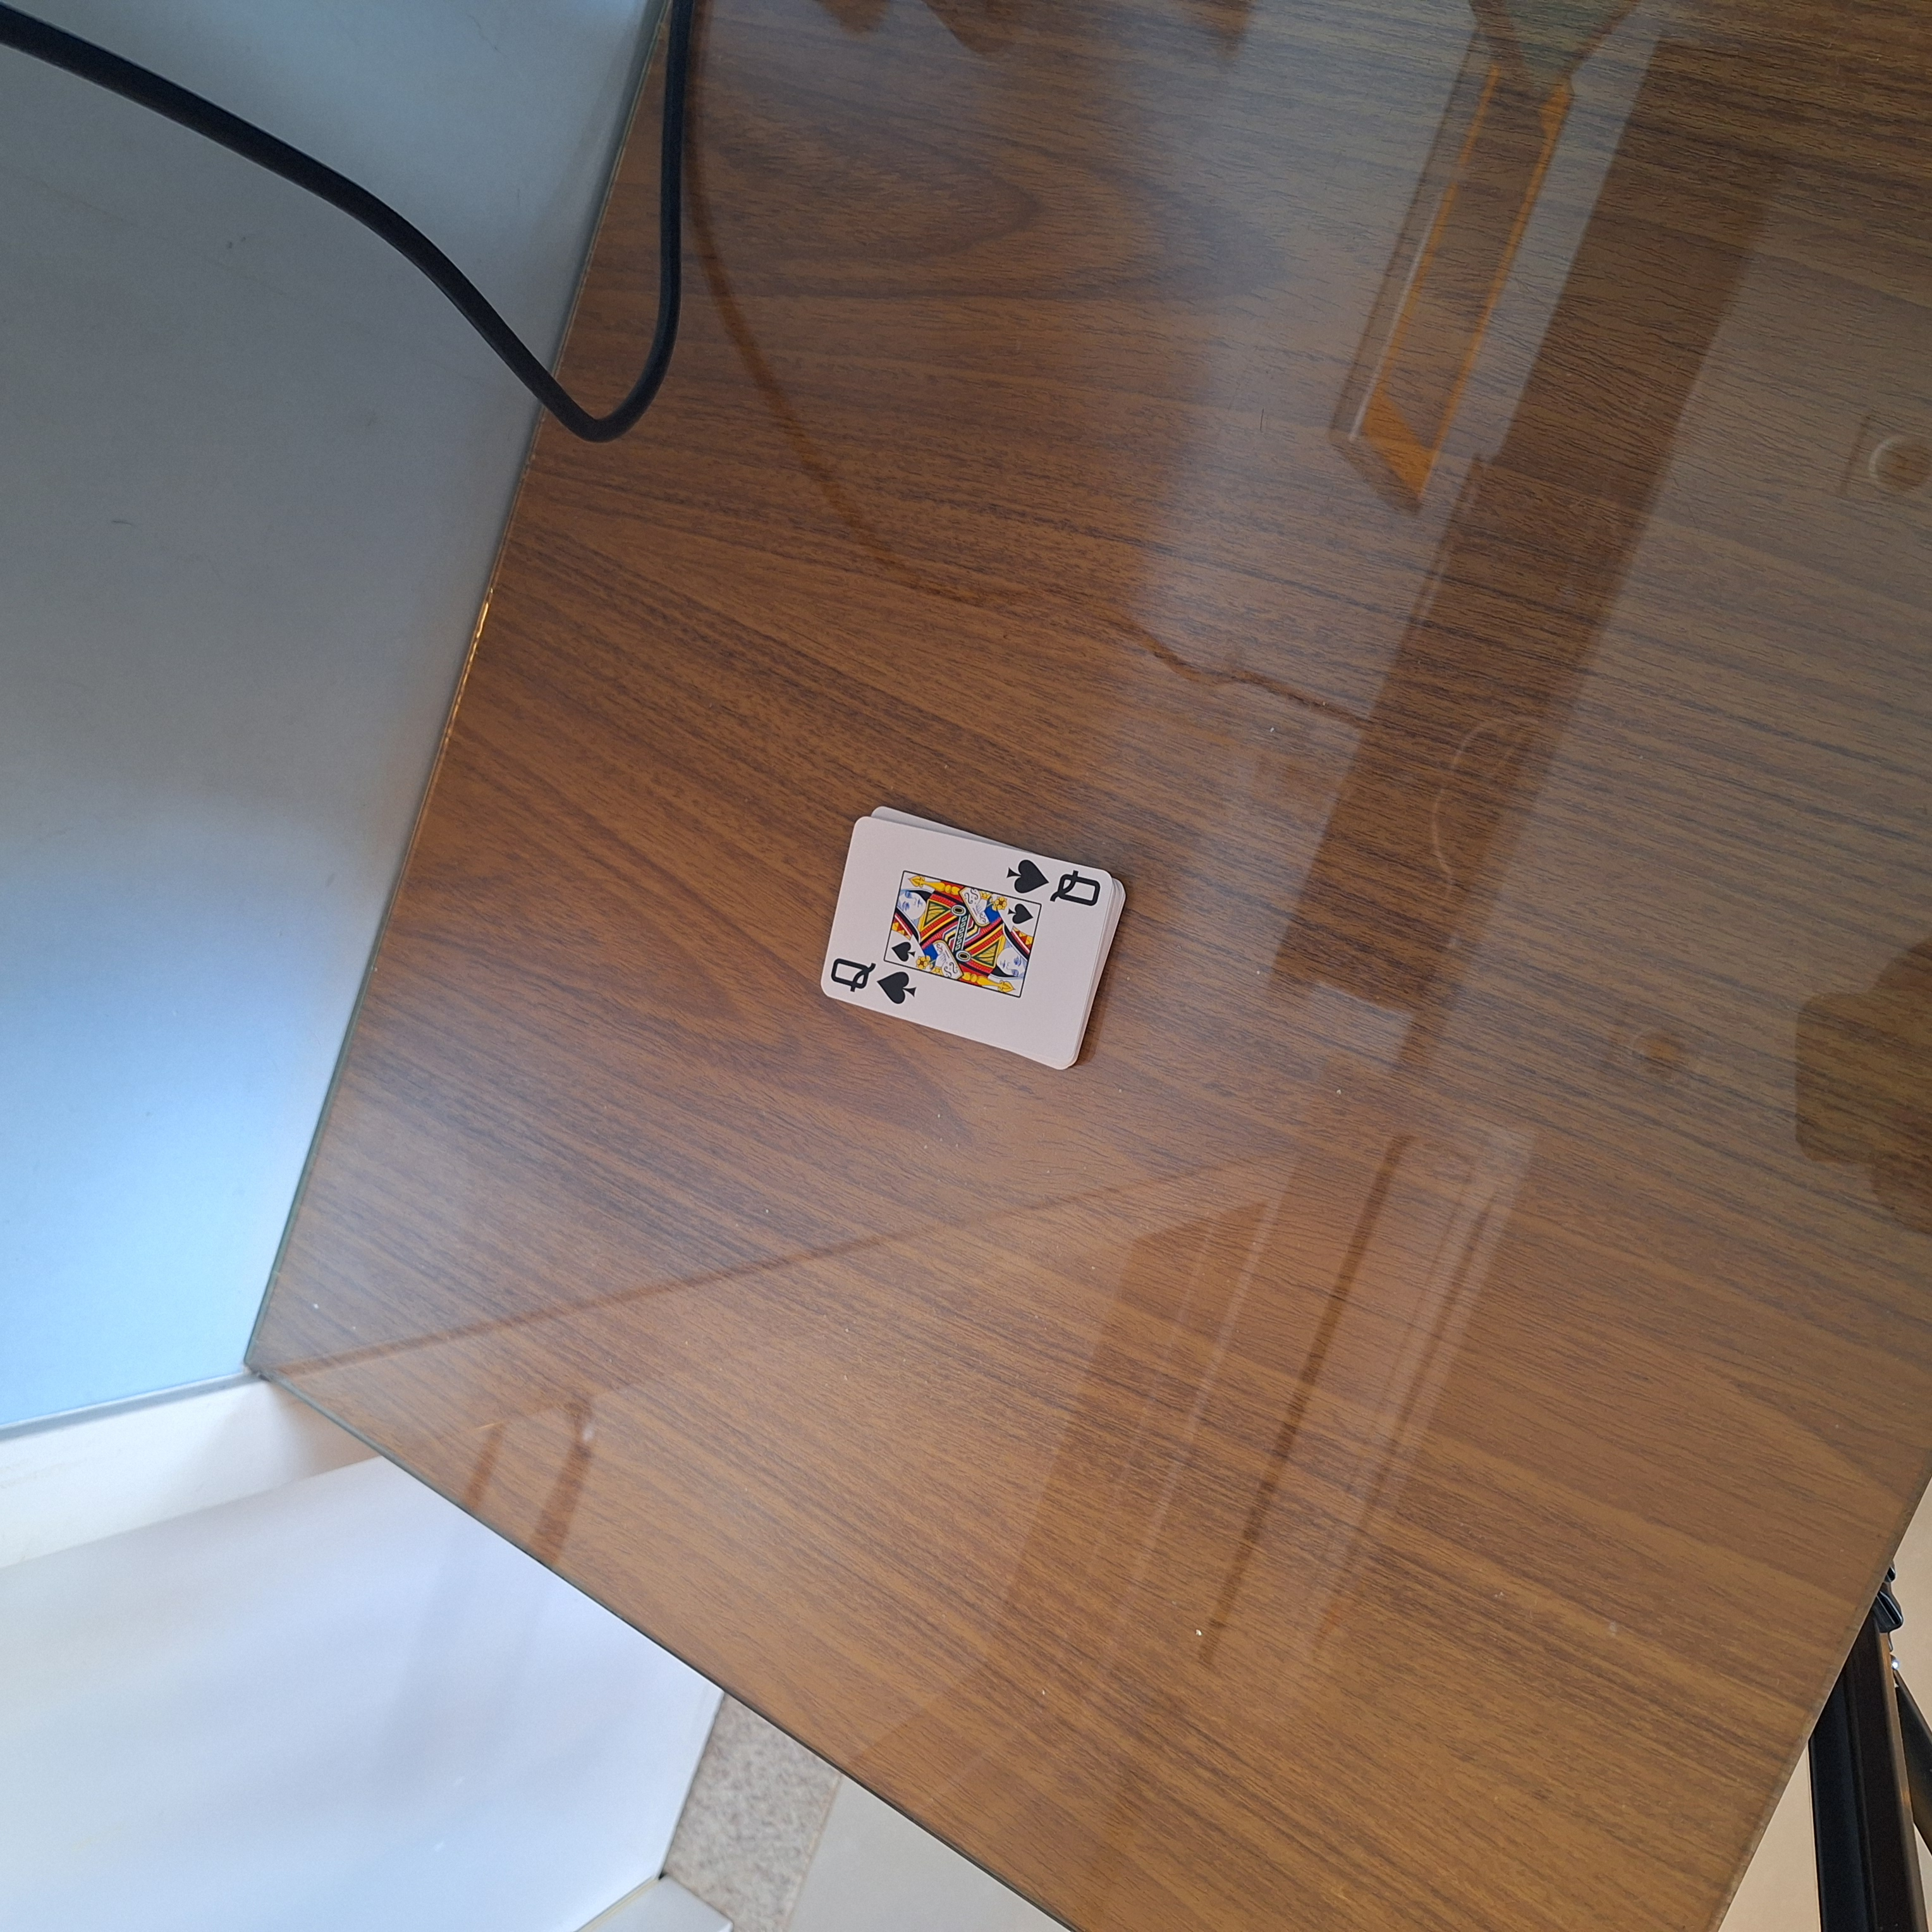QE: (1001, 849, 1104, 915), (821, 954, 922, 1008)
